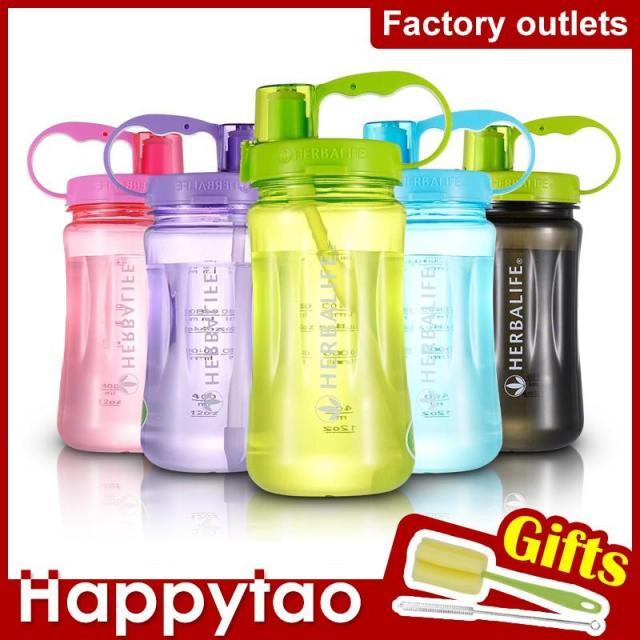plastic_bottle: (244, 67, 442, 513), (99, 83, 280, 489), (28, 98, 189, 471), (458, 111, 615, 455)
